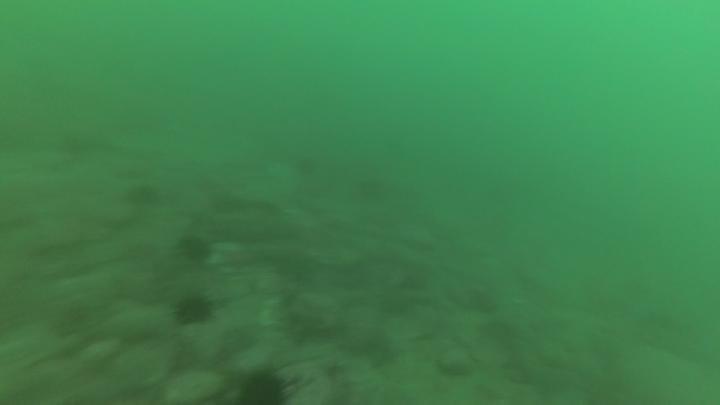echinus: (233, 372, 291, 405), (172, 292, 216, 328), (181, 238, 214, 265), (127, 185, 162, 210), (294, 157, 321, 177)
